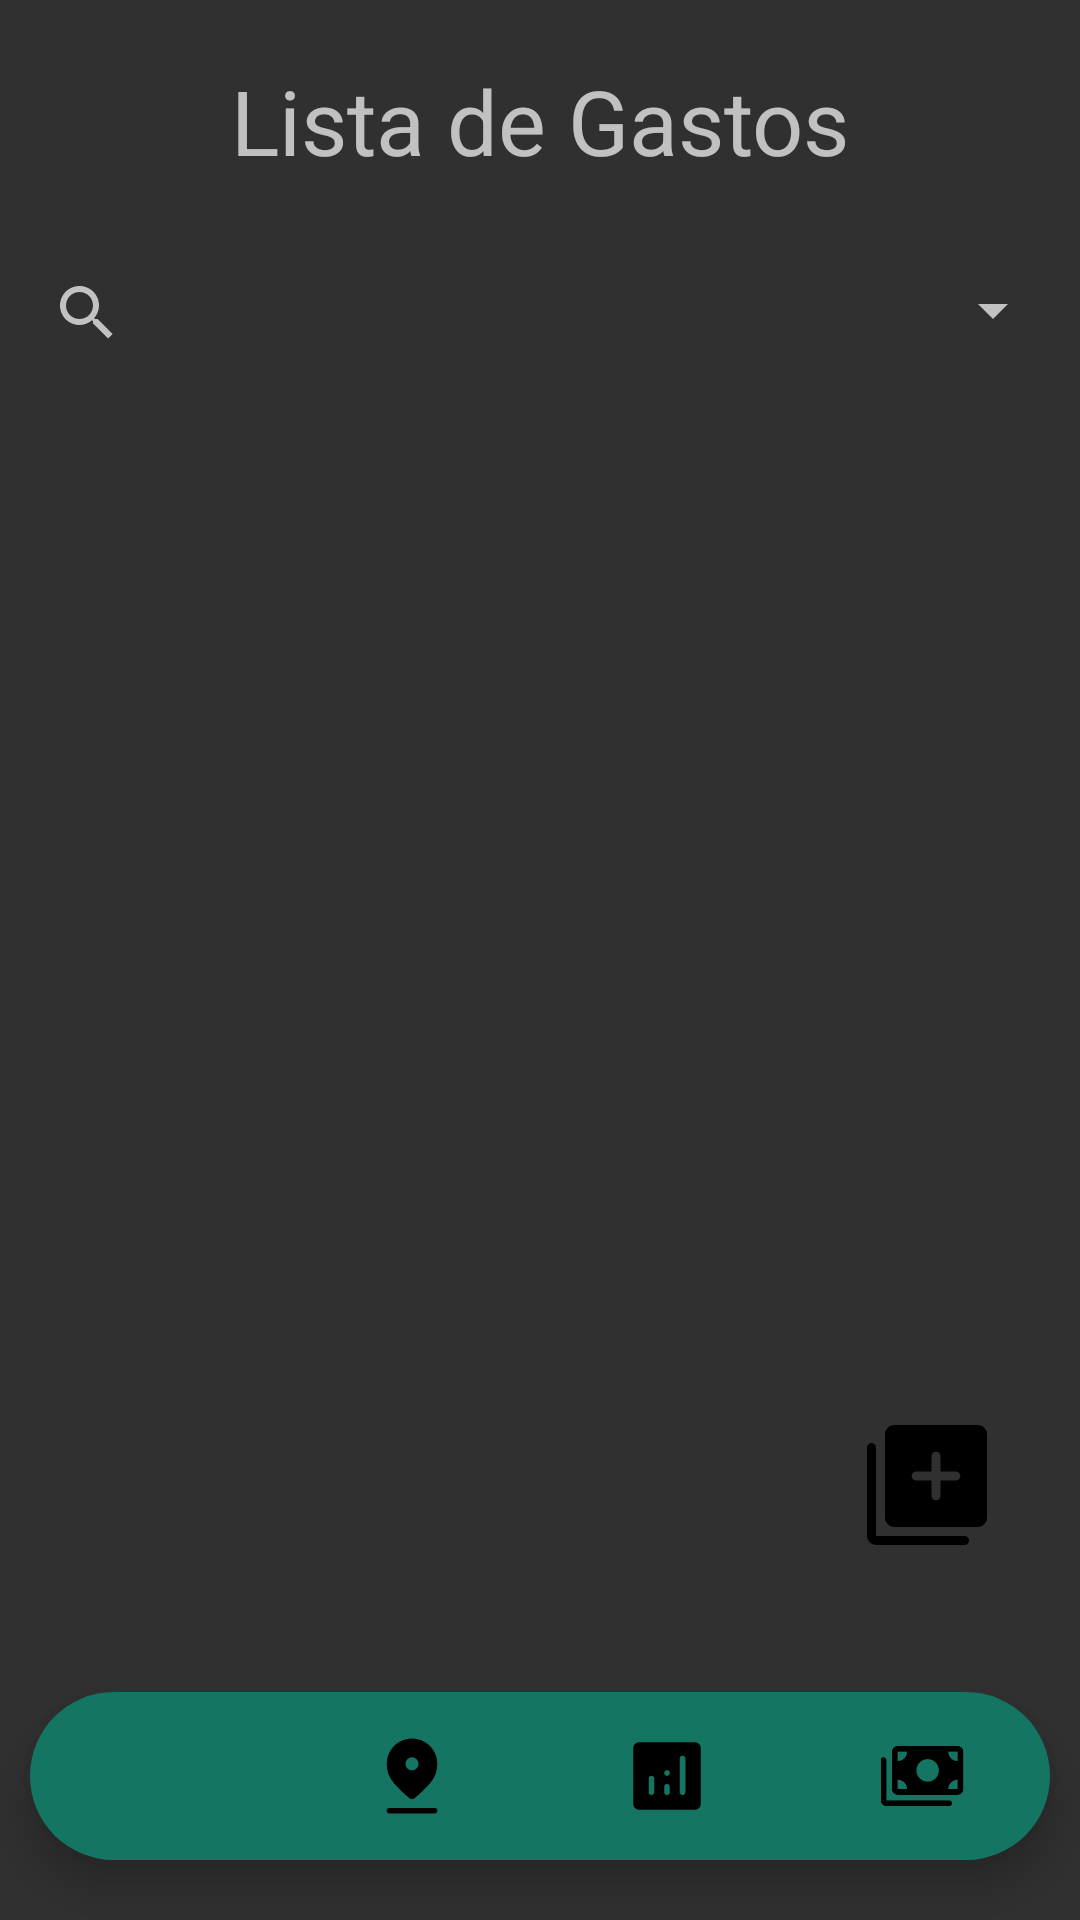

Point at icon controls on the screen. Image size 1080 × 1920, points as [x,y].
library add: [927,1485]
